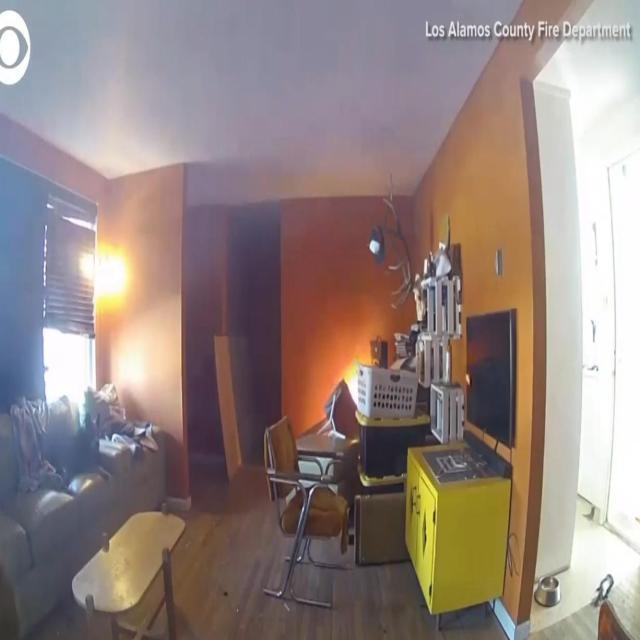smoke: (342, 353, 363, 410)
